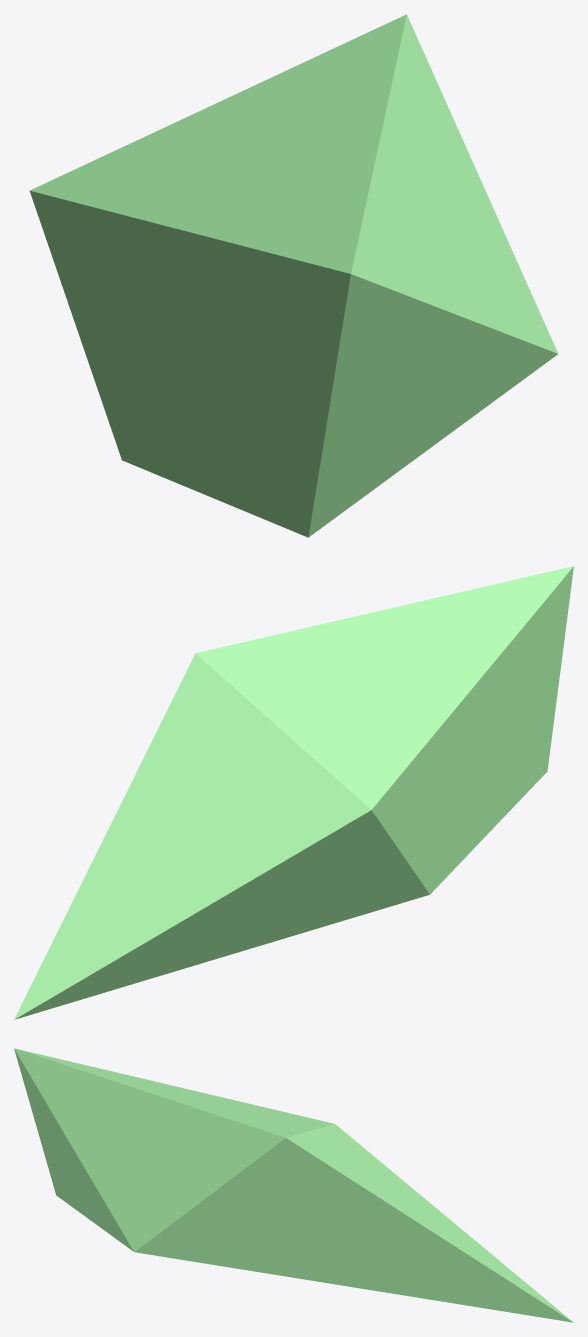
Rendered from linkhou_LR4_R560_link7_respondable_coll_36.dae.
3 views of the same model, one above another, from view 1: azimuth 30°, elevation 25°; view 2: azimuth 150°, elevation 25°; view 3: azimuth 270°, elevation 25° (orthographic). The views are drawn at different scales.
Visible parts, largest first — view 1: Node_00000209DB3A90B0; view 2: Node_00000209DB3A90B0; view 3: Node_00000209DB3A90B0.
Boxes of the visible parts, x1=… form: Node_00000209DB3A90B0: x1=29, y1=14, x2=558, y2=537; Node_00000209DB3A90B0: x1=14, y1=566, x2=573, y2=1019; Node_00000209DB3A90B0: x1=14, y1=1048, x2=573, y2=1322.
Bounding box in the file's own units: 0.003 × 0.0034 × 0.00887.
